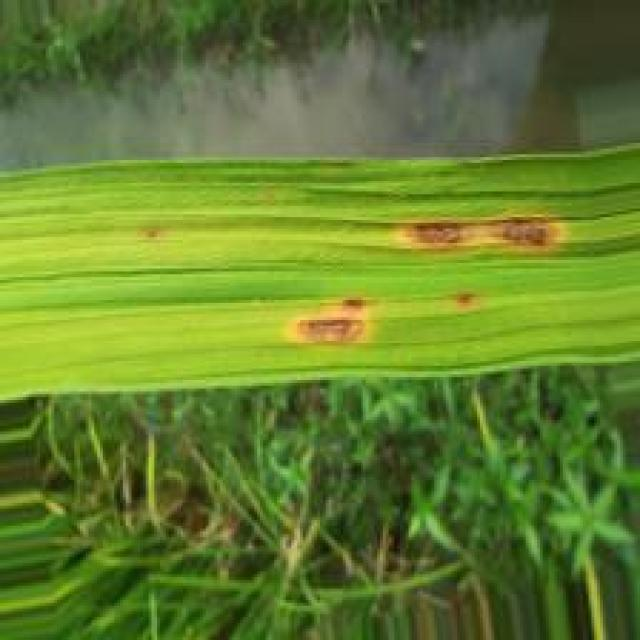Narrow_Brown_Leaf_Spot: (390, 207, 566, 264), (289, 285, 377, 343)
